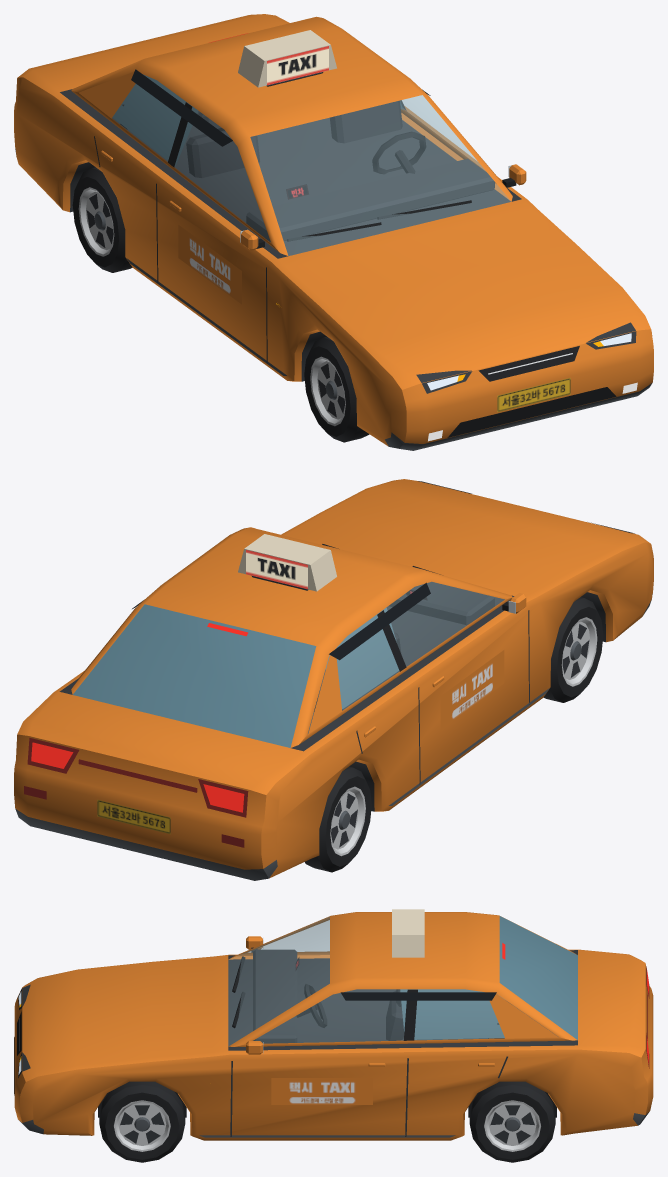
The model's file is SC_Veh_Taxi.gltf.
3 views of the same model, one above another, from view 1: azimuth 30°, elevation 25°; view 2: azimuth 150°, elevation 25°; view 3: azimuth 270°, elevation 25° (orthographic). The views are drawn at different scales.
Parts seen in each view (by area): view 1: SC_Veh_Taxi; view 2: SC_Veh_Taxi; view 3: SC_Veh_Taxi.
Boxes of the visible parts, box(x1,y1,x2,y2) form: SC_Veh_Taxi: box(14, 14, 653, 450); SC_Veh_Taxi: box(14, 479, 653, 880); SC_Veh_Taxi: box(14, 909, 653, 1162).
Bounding box in the file's own units: 1.97 × 1.64 × 4.91.
5 materials, 5 textured.
